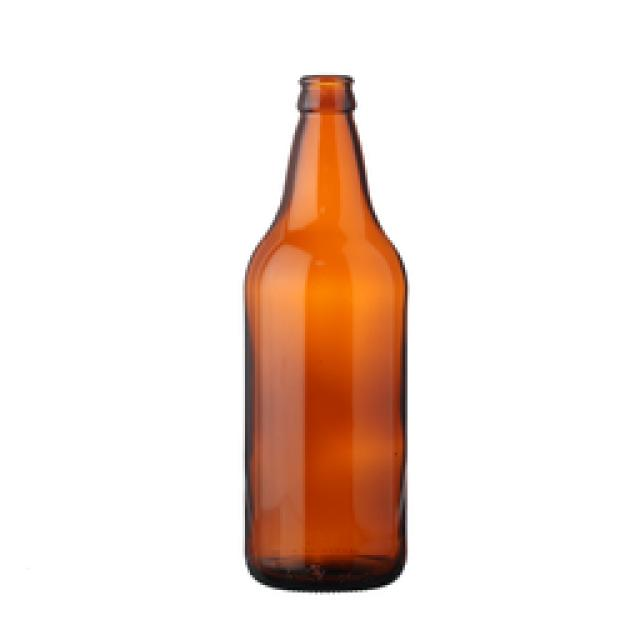glass_beverage_bottles: (247, 66, 408, 592)
